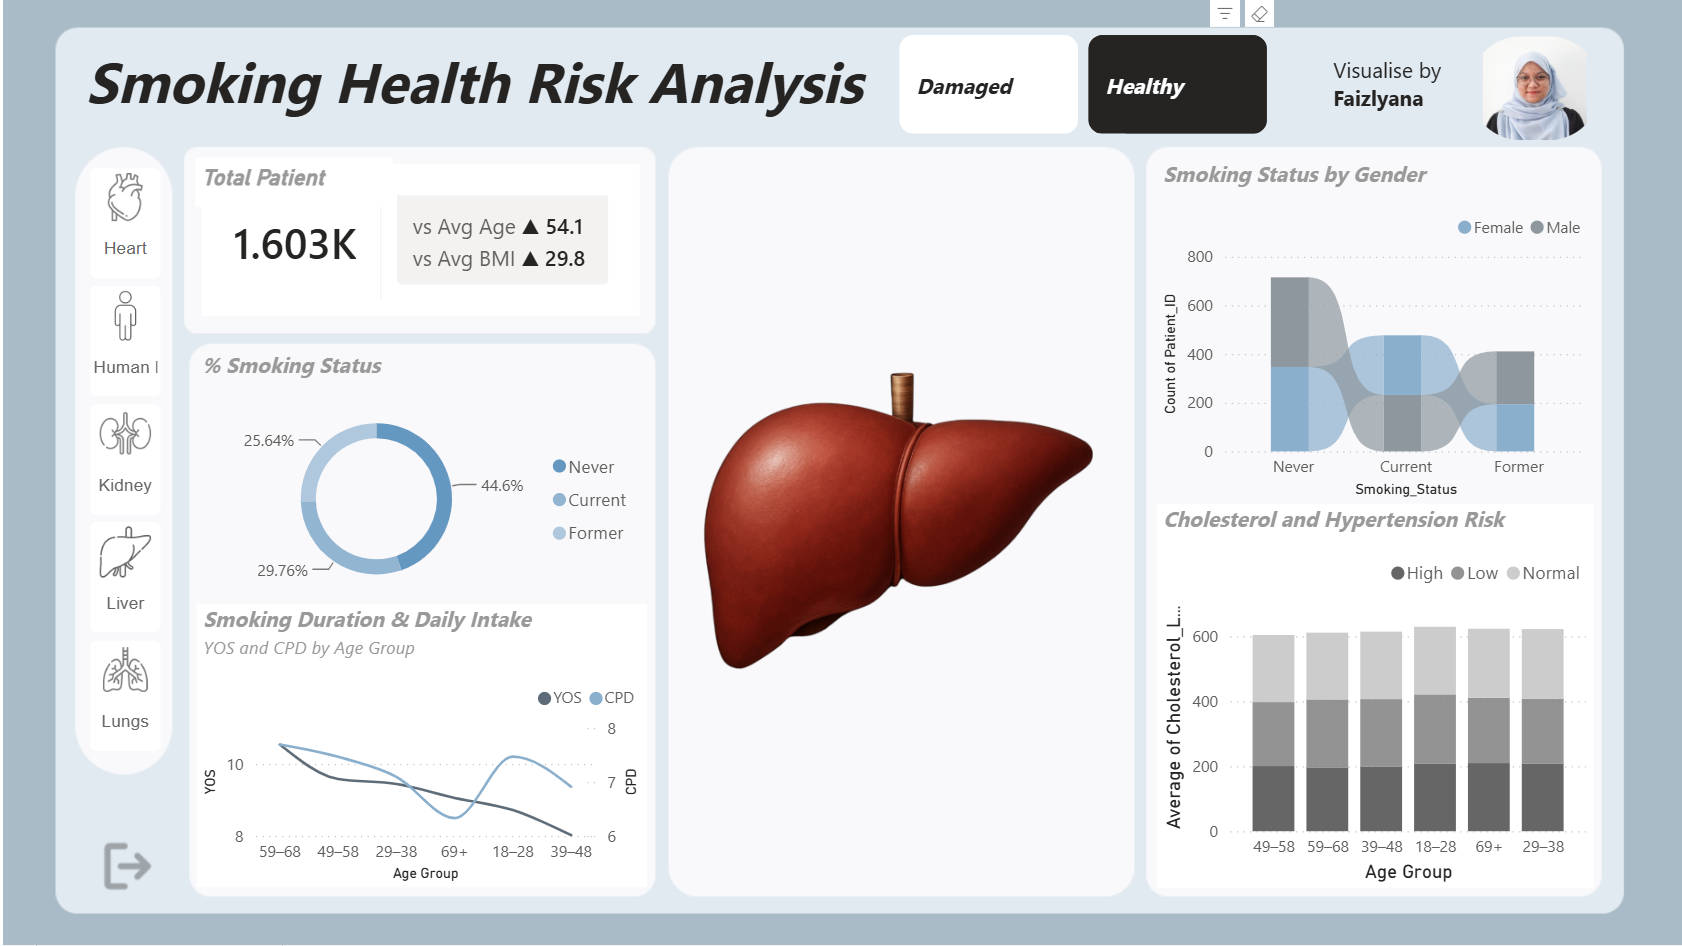

Layout of this report page (visuals, bound fields, positions):
{"tool":"powerbi","page":{"name":"Page 1","canvas":[1280,720],"ordinal":0},"visuals":[{"type":"cardVisual","fields":{"Data":["CountNonNull(health_dataset.Patient_ID)"]},"box":[146.5,119.8,343.1,126.2],"z":0},{"type":"textbox","box":[146.5,119.8,150,37.2],"z":1000},{"type":"advancedSlicerVisual","fields":{"Values":["condition.Organ_Condition"]},"box":[677.9,22.1,291.4,85.1],"z":2000},{"type":"ChicletSlicer1448559807354","fields":{"Category":["Organ.Organ"],"Image":["Organ.Icon_URL"]},"box":[58.1,119.8,73.3,465.1],"z":3000},{"type":"image","box":[511.6,119.8,344.2,557],"z":4000},{"type":"donutChart","title":"% Smoking Status","fields":{"Category":["health_dataset.Smoking_Status"],"Y":["CountNonNull(health_dataset.Smoking_Status)"]},"box":[146.5,266.3,343,194.2],"z":5000},{"type":"lineChart","title":"Smoking Duration & Daily Intake","fields":{"Category":["health_dataset.Age Group"],"Y":["Avg(health_dataset.Years_of_Smoking)"],"Y2":["Avg(health_dataset.Cigarettes_Per_Day)"]},"box":[147.7,460.5,343,216.3],"z":6000},{"type":"ribbonChart","title":"Smoking Status by Gender","fields":{"Category":["health_dataset.Smoking_Status"],"Y":["CountNonNull(health_dataset.Patient_ID)"],"Series":["health_dataset.Gender"]},"box":[879.1,120.9,332.6,262.8],"z":6001},{"type":"columnChart","title":"Cholesterol and Hypertension Risk","fields":{"Y":["Avg(health_dataset.Cholesterol_Level)"],"Category":["health_dataset.Age Group"],"Series":["health_dataset.BP_Risk"]},"box":[879.1,383.7,332.6,293],"z":6002},{"type":"textbox","box":[58.1,27.9,619.8,74.4],"z":6003},{"type":"textbox","box":[1008.1,37.2,159.3,57],"z":6004},{"type":"image","box":[1117.4,27.9,100,79.1],"z":6005}]}

Visuals, with their boxes in screenshot pixels (x1, y1, x2, y2), scaled from the page's 1280x720 canvas onto the 1682x946 screenshot:
cardVisual - CountNonNull(health_dataset.Patient_ID): locate(193, 157, 643, 323)
textbox: locate(193, 157, 390, 206)
advancedSlicerVisual - condition.Organ_Condition: locate(891, 29, 1274, 141)
ChicletSlicer1448559807354 - Organ.Organ x Organ.Icon_URL: locate(76, 157, 173, 768)
image: locate(672, 157, 1125, 889)
"% Smoking Status" donutChart: locate(193, 350, 643, 605)
"Smoking Duration & Daily Intake" lineChart: locate(194, 605, 645, 889)
"Smoking Status by Gender" ribbonChart: locate(1155, 159, 1592, 504)
"Cholesterol and Hypertension Risk" columnChart: locate(1155, 504, 1592, 889)
textbox: locate(76, 37, 891, 134)
textbox: locate(1325, 49, 1534, 124)
image: locate(1468, 37, 1600, 141)
